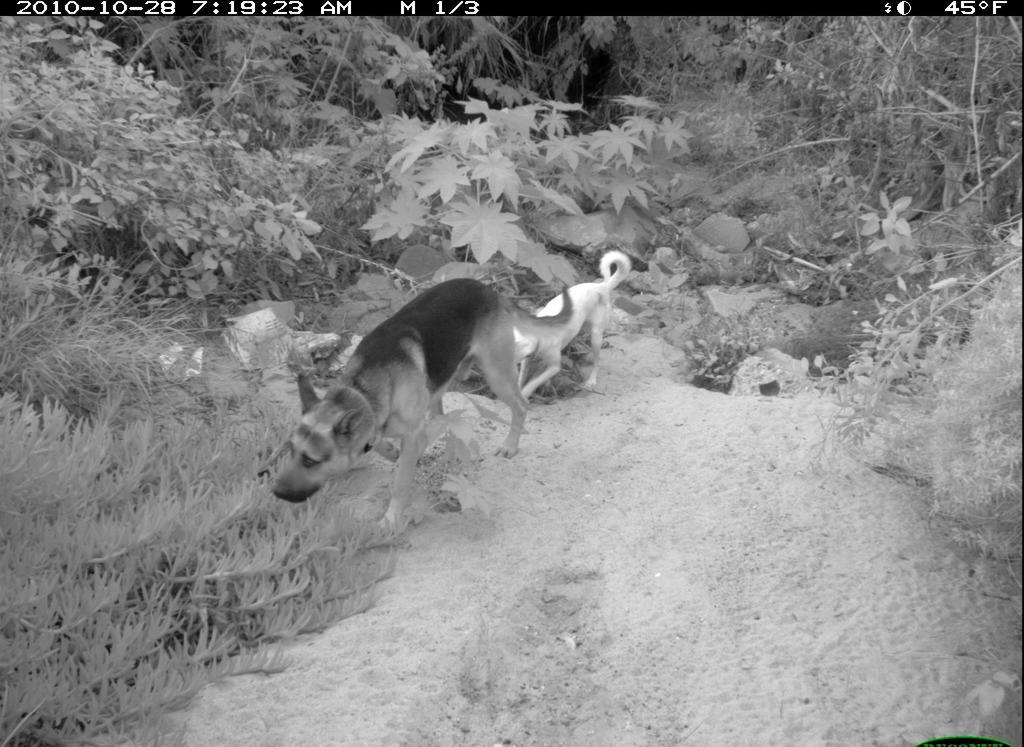dog: (267, 273, 578, 542), (505, 241, 662, 454)
